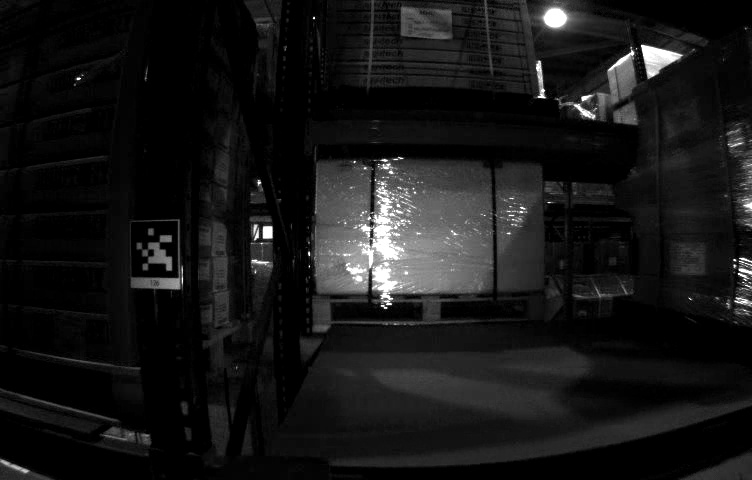True Barcode: (52, 314, 88, 361)
